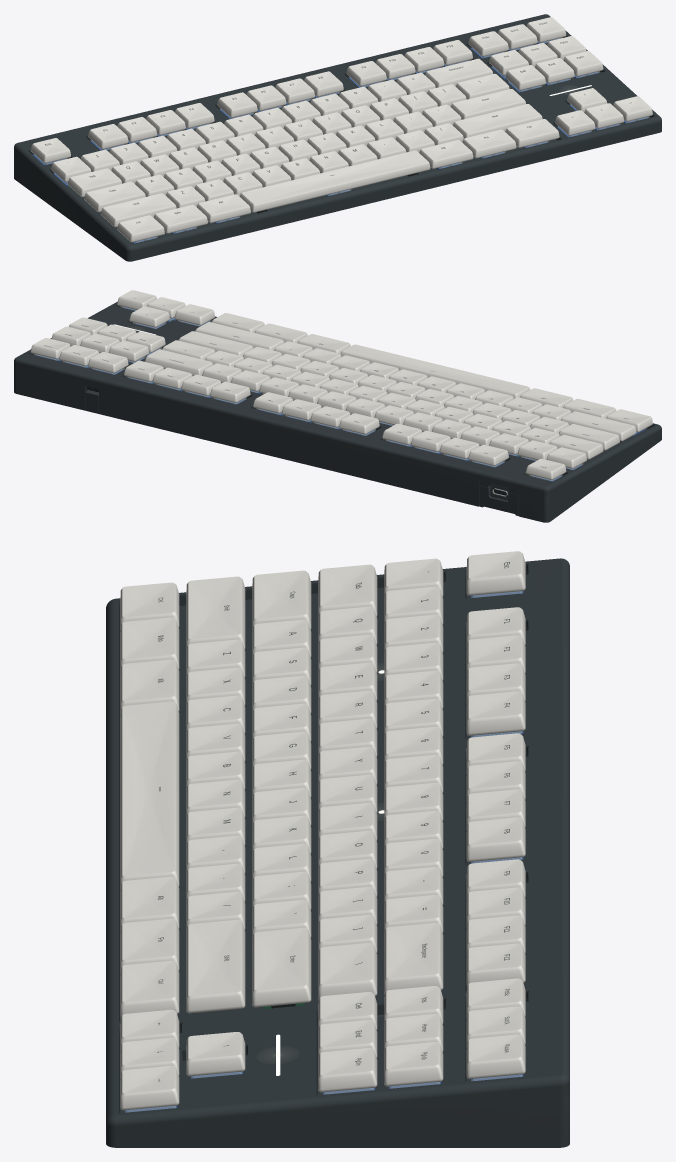
Rendered from v10-xvx-bow-navigation-bar.glb.
3 renders of one model, top to bottom at view 1: azimuth 30°, elevation 25°; view 2: azimuth 150°, elevation 25°; view 3: azimuth 270°, elevation 25°, orthographic. The views are drawn at different scales.
Visible parts, largest first — view 1: raised-navigation-shell, SW79 XVX Skyline R2 BOW Space keycap, SW70 XVX Skyline R2 BOW Shift keycap, SW64 XVX Skyline R2 BOW Shift keycap, SW57 XVX Skyline R2 BOW Enter keycap, SW31 XVX Skyline R2 BOW Backspace keycap, SW51 XVX Skyline R2 BOW Caps keycap, SW83 XVX Skyline R2 BOW Win keycap, SW80 XVX Skyline R2 BOW Fn keycap, SW78 XVX Skyline R2 BOW Alt keycap, SW81 XVX Skyline R2 BOW Ctrl keycap, SW84 XVX Skyline R2 BOW Alt keycap (+75 smaller); view 2: raised-navigation-shell, SW79 XVX Skyline R2 BOW Space keycap, SW70 XVX Skyline R2 BOW Shift keycap, SW31 XVX Skyline R2 BOW Backspace keycap, SW64 XVX Skyline R2 BOW Shift keycap, SW57 XVX Skyline R2 BOW Enter keycap, SW51 XVX Skyline R2 BOW Caps keycap, bezel, SW34 XVX Skyline R2 BOW Tab keycap, SW76 XVX Skyline R2 BOW ↑ keycap, SW1 XVX Skyline R2 BOW Esc keycap, SW85 XVX Skyline R2 BOW ← keycap (+77 smaller); view 3: raised-navigation-shell, SW79 XVX Skyline R2 BOW Space keycap, SW70 XVX Skyline R2 BOW Shift keycap, SW57 XVX Skyline R2 BOW Enter keycap, SW64 XVX Skyline R2 BOW Shift keycap, SW31 XVX Skyline R2 BOW Backspace keycap, SW51 XVX Skyline R2 BOW Caps keycap, SW81 XVX Skyline R2 BOW Ctrl keycap, SW41 XVX Skyline R2 BOW \ keycap, SW78 XVX Skyline R2 BOW Alt keycap, SW83 XVX Skyline R2 BOW Win keycap, SW84 XVX Skyline R2 BOW Alt keycap (+75 smaller).
Part boxes in pixels (left/top/right/bottom): raised-navigation-shell: left=14, top=14, right=661, bottom=261; SW79 XVX Skyline R2 BOW Space keycap: left=240, top=150, right=430, bottom=212; SW70 XVX Skyline R2 BOW Shift keycap: left=453, top=104, right=542, bottom=138; SW64 XVX Skyline R2 BOW Shift keycap: left=100, top=193, right=176, bottom=227; SW57 XVX Skyline R2 BOW Enter keycap: left=451, top=89, right=525, bottom=119; SW31 XVX Skyline R2 BOW Backspace keycap: left=425, top=58, right=492, bottom=87; SW51 XVX Skyline R2 BOW Caps keycap: left=84, top=181, right=145, bottom=212; SW83 XVX Skyline R2 BOW Win keycap: left=153, top=204, right=207, bottom=233; SW80 XVX Skyline R2 BOW Fn keycap: left=462, top=129, right=516, bottom=158; SW78 XVX Skyline R2 BOW Alt keycap: left=197, top=194, right=250, bottom=223; SW81 XVX Skyline R2 BOW Ctrl keycap: left=505, top=119, right=559, bottom=147; SW84 XVX Skyline R2 BOW Alt keycap: left=419, top=140, right=473, bottom=168; raised-navigation-shell: left=14, top=302, right=661, bottom=522; SW79 XVX Skyline R2 BOW Space keycap: left=340, top=344, right=530, bottom=398; SW70 XVX Skyline R2 BOW Shift keycap: left=195, top=322, right=283, bottom=350; SW31 XVX Skyline R2 BOW Backspace keycap: left=144, top=349, right=212, bottom=375; SW64 XVX Skyline R2 BOW Shift keycap: left=561, top=411, right=636, bottom=441; SW57 XVX Skyline R2 BOW Enter keycap: left=178, top=331, right=253, bottom=356; SW51 XVX Skyline R2 BOW Caps keycap: left=559, top=424, right=619, bottom=450; bezel: left=479, top=485, right=518, bottom=514; SW34 XVX Skyline R2 BOW Tab keycap: left=549, top=434, right=603, bottom=459; SW76 XVX Skyline R2 BOW ↑ keycap: left=129, top=306, right=169, bottom=327; SW1 XVX Skyline R2 BOW Esc keycap: left=525, top=458, right=566, bottom=479; SW85 XVX Skyline R2 BOW ← keycap: left=174, top=304, right=214, bottom=325; raised-navigation-shell: left=106, top=558, right=569, bottom=1147; SW79 XVX Skyline R2 BOW Space keycap: left=120, top=701, right=179, bottom=889; SW70 XVX Skyline R2 BOW Shift keycap: left=186, top=919, right=245, bottom=1013; SW57 XVX Skyline R2 BOW Enter keycap: left=252, top=927, right=311, bottom=1007; SW64 XVX Skyline R2 BOW Shift keycap: left=186, top=576, right=245, bottom=652; SW31 XVX Skyline R2 BOW Backspace keycap: left=384, top=923, right=443, bottom=993; SW51 XVX Skyline R2 BOW Caps keycap: left=252, top=570, right=311, bottom=631; SW81 XVX Skyline R2 BOW Ctrl keycap: left=120, top=960, right=179, bottom=1017; SW41 XVX Skyline R2 BOW \ keycap: left=318, top=943, right=377, bottom=999; SW78 XVX Skyline R2 BOW Alt keycap: left=120, top=659, right=179, bottom=714; SW83 XVX Skyline R2 BOW Win keycap: left=120, top=617, right=179, bottom=672; SW84 XVX Skyline R2 BOW Alt keycap: left=120, top=876, right=179, bottom=931.
Size of the model in its own units: 356 by 26.05 by 133.
103 materials, 87 textured.
